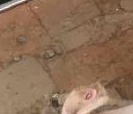text: (75, 82, 104, 107)
